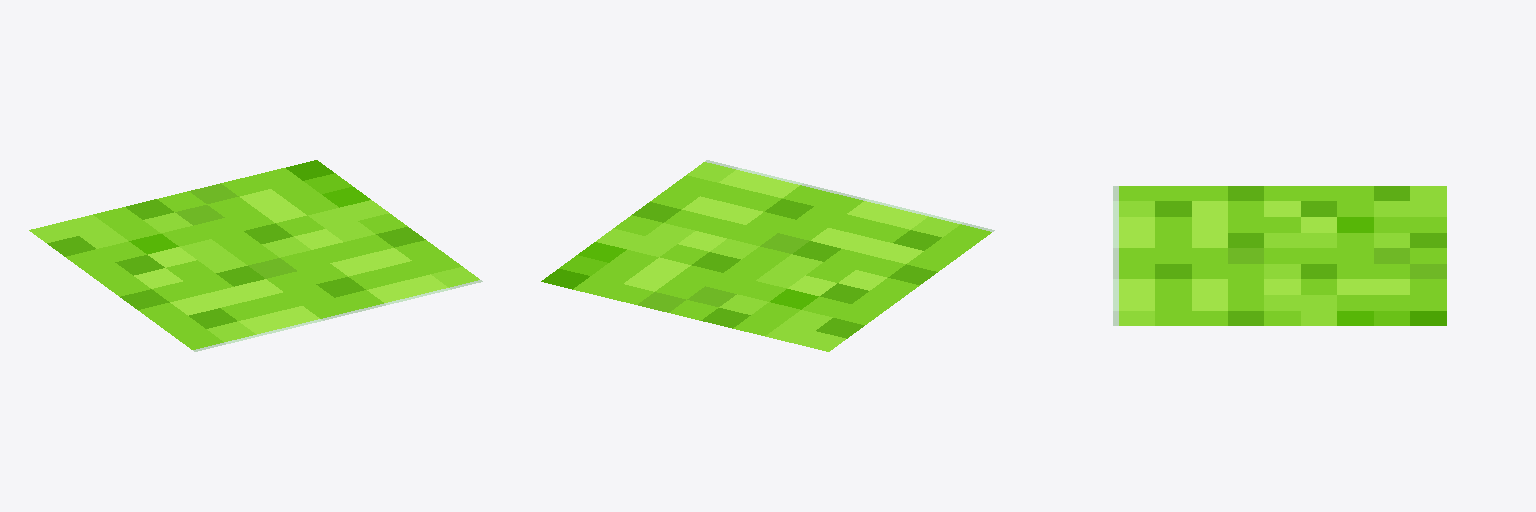
3 renders of one model, left to right at view 1: azimuth 30°, elevation 25°; view 2: azimuth 150°, elevation 25°; view 3: azimuth 270°, elevation 25°, orthographic.
Parts seen in each view (by area): view 1: Default; view 2: Default; view 3: Default.
Boxes of the visible parts, <box> form: Default: <box>29,160,482,351</box>; Default: <box>541,160,994,351</box>; Default: <box>1113,186,1446,325</box>.
Bounding box in the file's own units: 1 × 0.0001 × 1.
Materials: 1 (1 with a texture image).